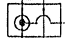Single Phase Tap-Off Unit: (6, 3, 63, 38)
